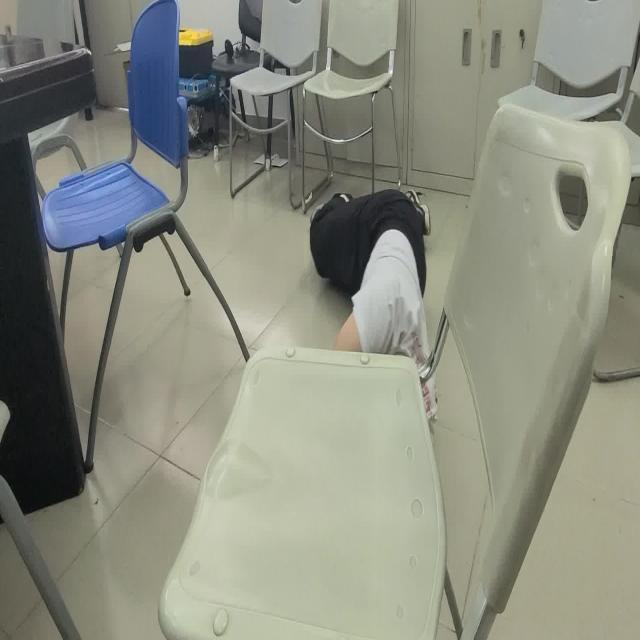fall: (308, 184, 436, 362)
